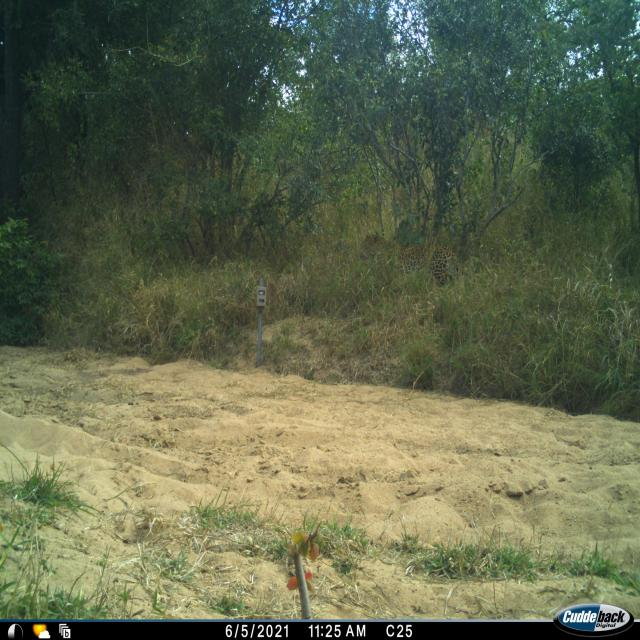Leopard: (393, 244, 457, 294)
